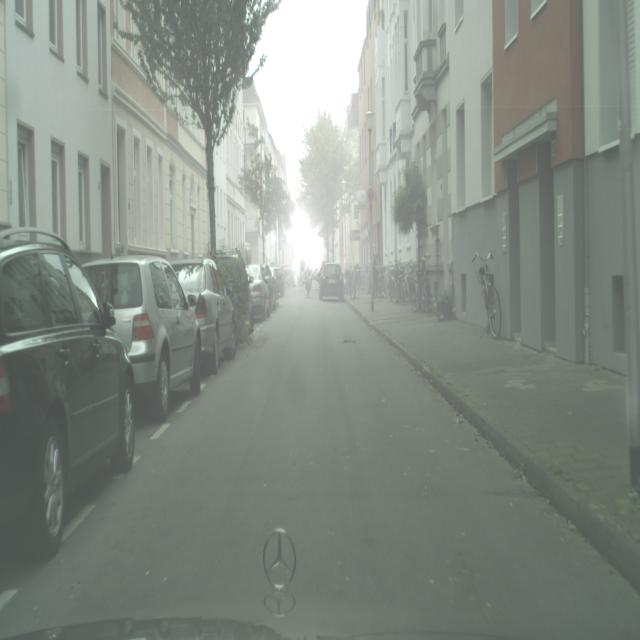car: (471, 250, 502, 339)
truck: (0, 226, 137, 558), (82, 254, 202, 419), (176, 258, 238, 375), (211, 248, 254, 343), (246, 264, 270, 322), (318, 261, 345, 302), (260, 263, 279, 310), (274, 265, 296, 291), (273, 267, 285, 298)
